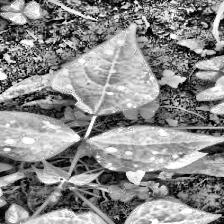Bean Rust: (54, 23, 150, 120), (92, 124, 224, 172), (0, 103, 77, 161)
